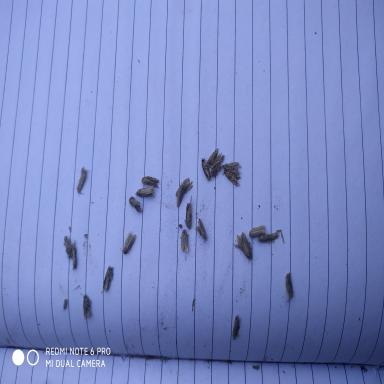pbw: (238, 232, 253, 262), (76, 166, 90, 196), (175, 178, 193, 198), (122, 229, 135, 255), (101, 266, 112, 292), (284, 272, 294, 299), (258, 230, 280, 242), (223, 170, 239, 186), (195, 219, 208, 238), (82, 292, 91, 319), (199, 158, 210, 180), (206, 147, 218, 167), (141, 175, 159, 187), (129, 194, 143, 209), (234, 313, 240, 346), (248, 225, 266, 236), (135, 185, 154, 195), (221, 161, 240, 171), (174, 187, 184, 206), (186, 204, 193, 230), (180, 229, 188, 251)
